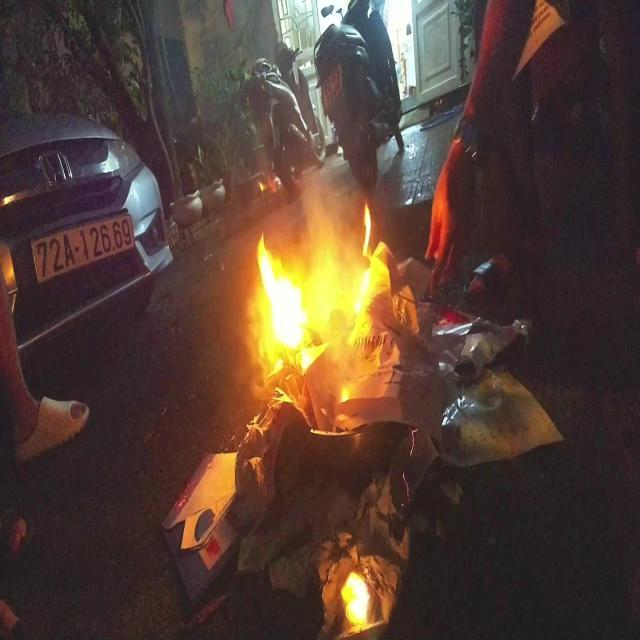Fire: (247, 234, 406, 420), (342, 570, 371, 630)
Smoke: (284, 163, 358, 256)
